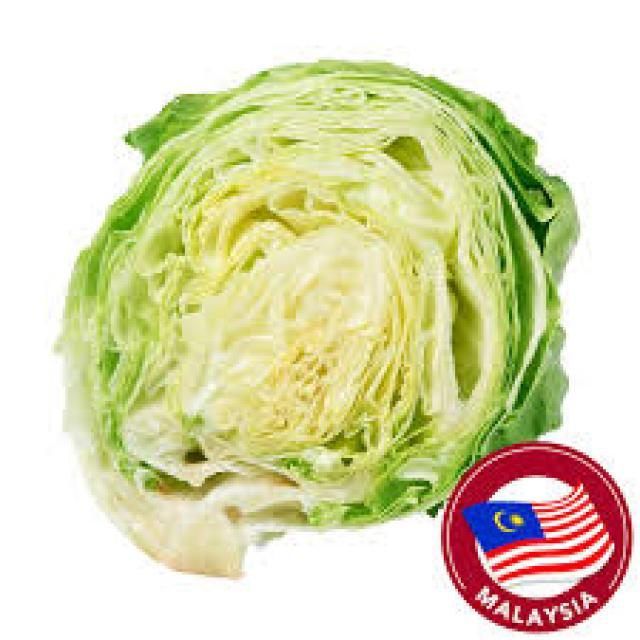Lettuce: (50, 58, 580, 582)
